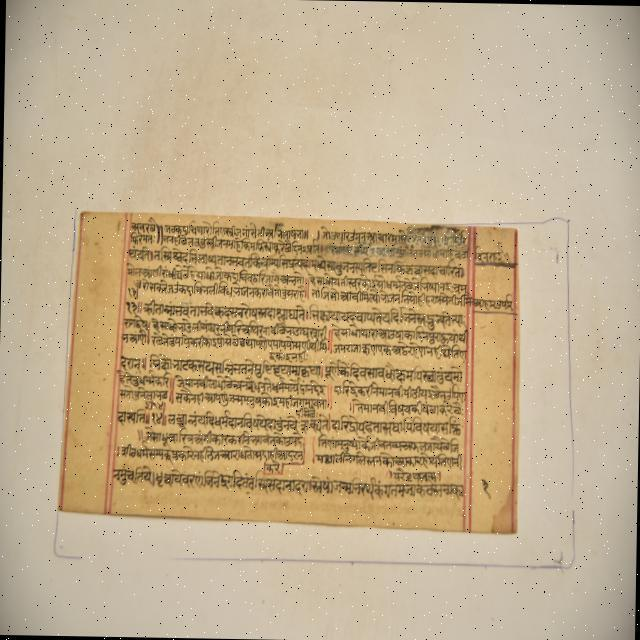text_paragraph: (57, 210, 515, 535)
